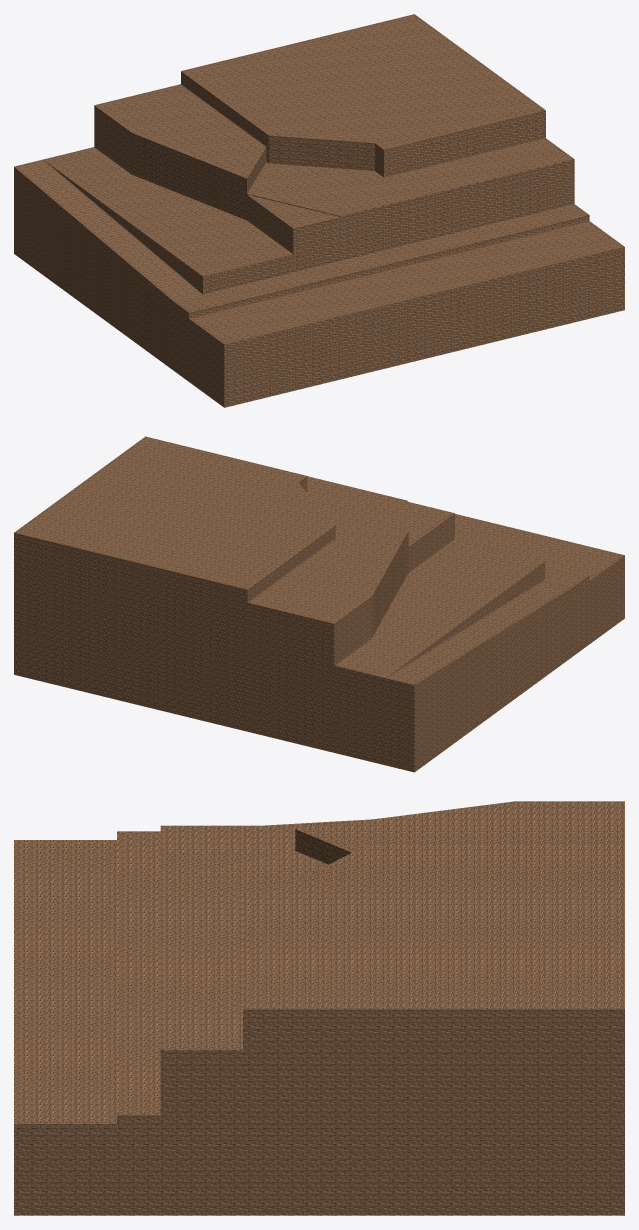
Rendered from pisos2.glb.
3 views of the same model, one above another, from view 1: azimuth 30°, elevation 25°; view 2: azimuth 150°, elevation 25°; view 3: azimuth 270°, elevation 25° (orthographic). The views are drawn at different scales.
Parts seen in each view (by area): view 1: 38664; view 2: 38664; view 3: 38664.
Boxes of the visible parts, <box> form: 38664: <box>14,14,624,407</box>; 38664: <box>14,436,624,772</box>; 38664: <box>14,801,624,1215</box>.
Bounding box in the file's own units: 70.79 × 23.98 × 64.4.
27 materials, 27 textured.
